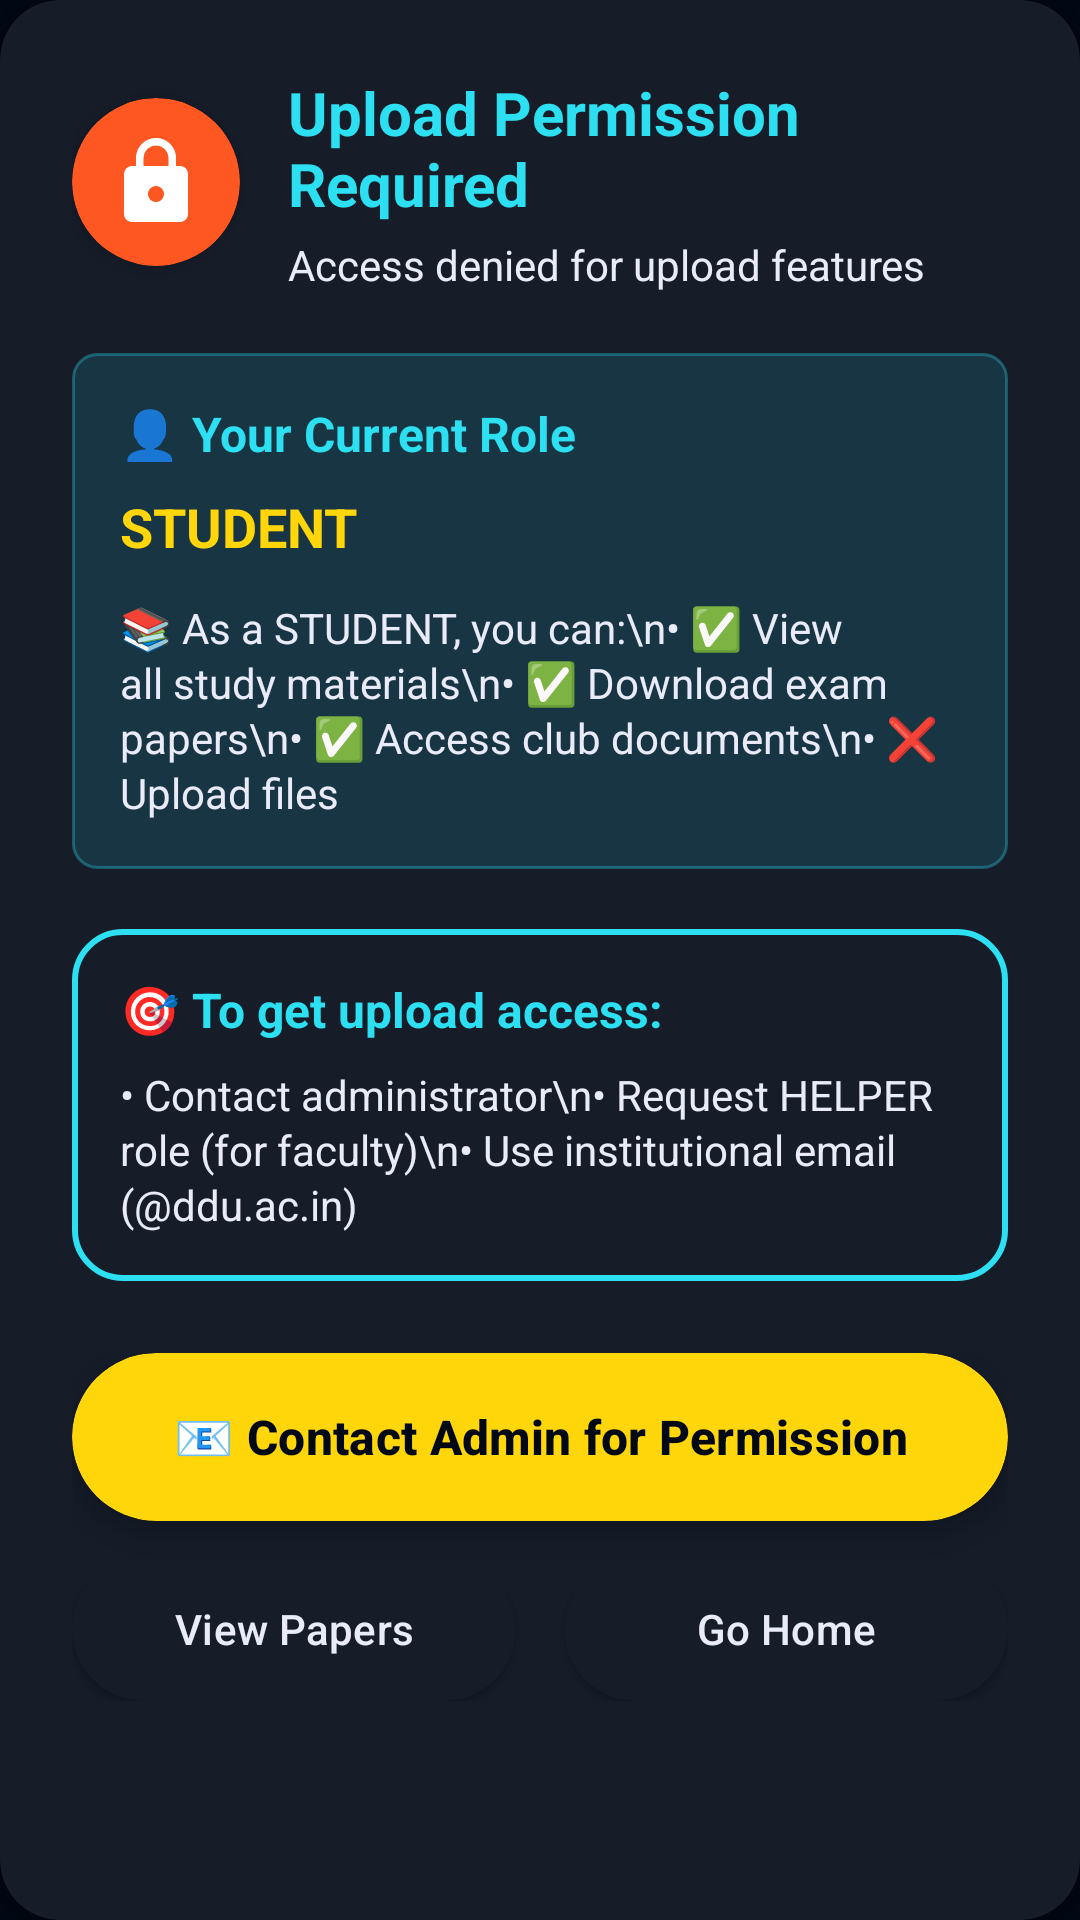

Where to tap for icons on this 1080 x 1920 app screen, as [x,y]:
lock: [156,180]
